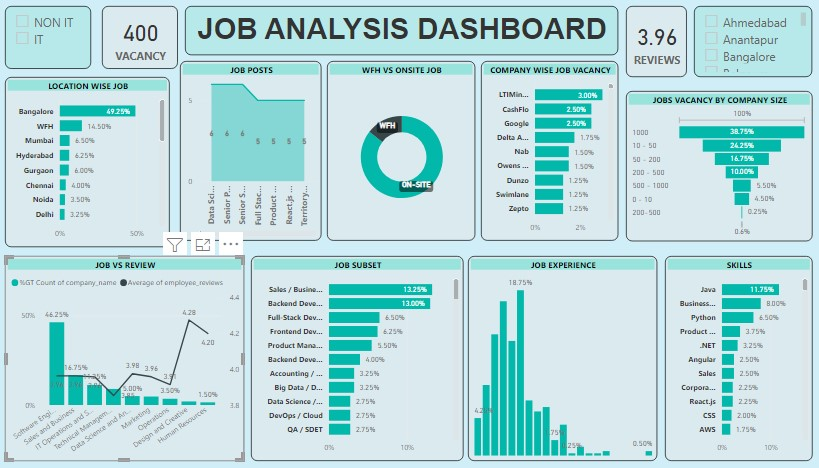

The page's visual inventory and layout, read from the dashboard file:
{"tool":"powerbi","page":{"name":"Page 1","canvas":[1280,720],"ordinal":0},"visuals":[{"type":"barChart","title":"LOCATION WISE JOB","fields":{"Category":["scraped_raw_data.location.1"],"Y":["CountNonNull(scraped_raw_data.location.1)"]},"box":[52.9,120,241.4,248.6],"z":0},{"type":"lineStackedColumnComboChart","title":"JOB VS REVIEW","fields":{"Category":["scraped_raw_data.job type"],"Y":["Divide(CountNonNull(scraped_raw_data.company_name), ScopedEval(CountNonNull(scraped_raw_data.company_name), []))"],"Y2":["Avg(scraped_raw_data.employee_reviews)"]},"box":[52.9,381.4,350,300],"z":1000},{"type":"barChart","title":"COMPANY WISE JOB VACANCY","fields":{"Category":["scraped_raw_data.company_name"],"Y":["CountNonNull(scraped_raw_data.company_name)"]},"box":[748.6,97.1,201.4,262.9],"z":2000},{"type":"funnel","title":"JOBS VACANCY BY COMPANY SIZE","fields":{"Category":["scraped_raw_data.employees_count"],"Y":["CountNonNull(scraped_raw_data.employees_count)"]},"box":[961.4,140,272.9,220],"z":3000},{"type":"donutChart","title":"WFH VS ONSITE JOB","fields":{"Y":["CountNonNull(scraped_raw_data.company_name)"],"Category":["scraped_raw_data.JOB WORK TYPE"]},"box":[524.3,97.1,217.1,262.9],"z":4000},{"type":"columnChart","title":"JOB EXPERIENCE","fields":{"Category":["scraped_raw_data.experience_req.1"],"Y":["CountNonNull(scraped_raw_data.company_name)"]},"box":[730,381.4,277.1,300],"z":5000},{"type":"barChart","title":"SKILLS","fields":{"Category":["scraped_raw_data.skills.1"],"Y":["CountNonNull(scraped_raw_data.skills.1)"]},"box":[1018.6,381.4,215.7,300],"z":6000},{"type":"slicer","fields":{"Values":["scraped_raw_data.JOB SECTOR"]},"box":[52.7,16.1,125.9,92.2],"z":7000},{"type":"barChart","title":"JOB SUBSET","fields":{"Category":["scraped_raw_data.specific job role"],"Y":["CountNonNull(scraped_raw_data.specific job role)"]},"box":[412.9,381.4,311.4,300],"z":8000},{"type":"textbox","box":[316.1,16.1,633.7,71.7],"z":9000},{"type":"stackedAreaChart","title":"JOB POSTS","fields":{"Category":["scraped_raw_data.designation.1"],"Y":["CountNonNull(scraped_raw_data.designation.1)"]},"box":[308.6,97.1,207.1,262.9],"z":10000},{"type":"slicer","fields":{"Values":["scraped_raw_data.location.1"]},"box":[1061,16.1,172.7,103.9],"z":11000},{"type":"card","fields":{"Values":["scraped_raw_data.REVIEW RATING"]},"box":[961.5,16.1,89.3,103.9],"z":12000},{"type":"card","fields":{"Values":["scraped_raw_data.VACANCY"]},"box":[194.6,16.1,111.2,92.2],"z":13000}]}

Visuals, with their boxes in screenshot pixels (x1, y1, x2, y2), scaled from the page's 1280x720 canvas onto the 819x468 screenshot:
"LOCATION WISE JOB" barChart: 34:78:188:240
"JOB VS REVIEW" lineStackedColumnComboChart: 34:248:258:443
"COMPANY WISE JOB VACANCY" barChart: 479:63:608:234
"JOBS VACANCY BY COMPANY SIZE" funnel: 615:91:790:234
"WFH VS ONSITE JOB" donutChart: 335:63:474:234
"JOB EXPERIENCE" columnChart: 467:248:644:443
"SKILLS" barChart: 652:248:790:443
slicer - scraped_raw_data.JOB SECTOR: 34:10:114:70
"JOB SUBSET" barChart: 264:248:463:443
textbox: 202:10:608:57
"JOB POSTS" stackedAreaChart: 197:63:330:234
slicer - scraped_raw_data.location.1: 679:10:789:78
card - scraped_raw_data.REVIEW RATING: 615:10:672:78
card - scraped_raw_data.VACANCY: 125:10:196:70
